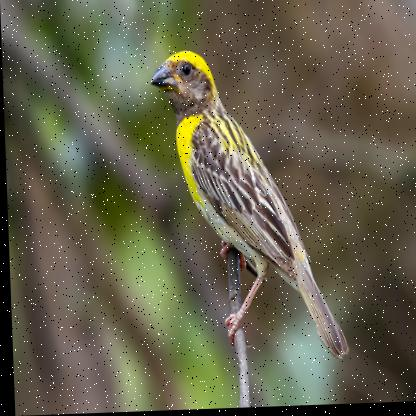Burung: (150, 47, 347, 365)
